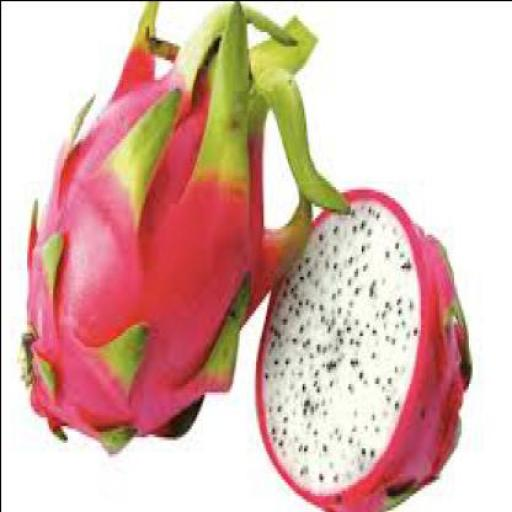biodegradable: (19, 0, 349, 450), (257, 183, 473, 509)
